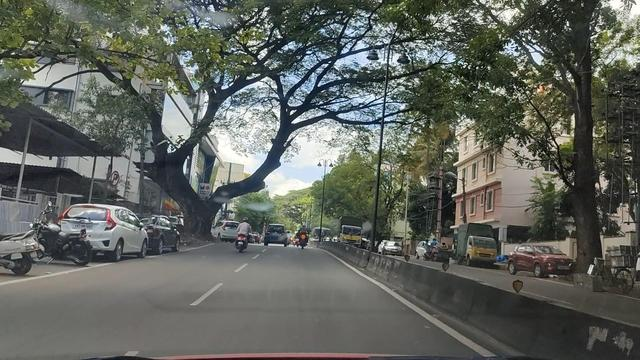LMV: (71, 203, 155, 263)
